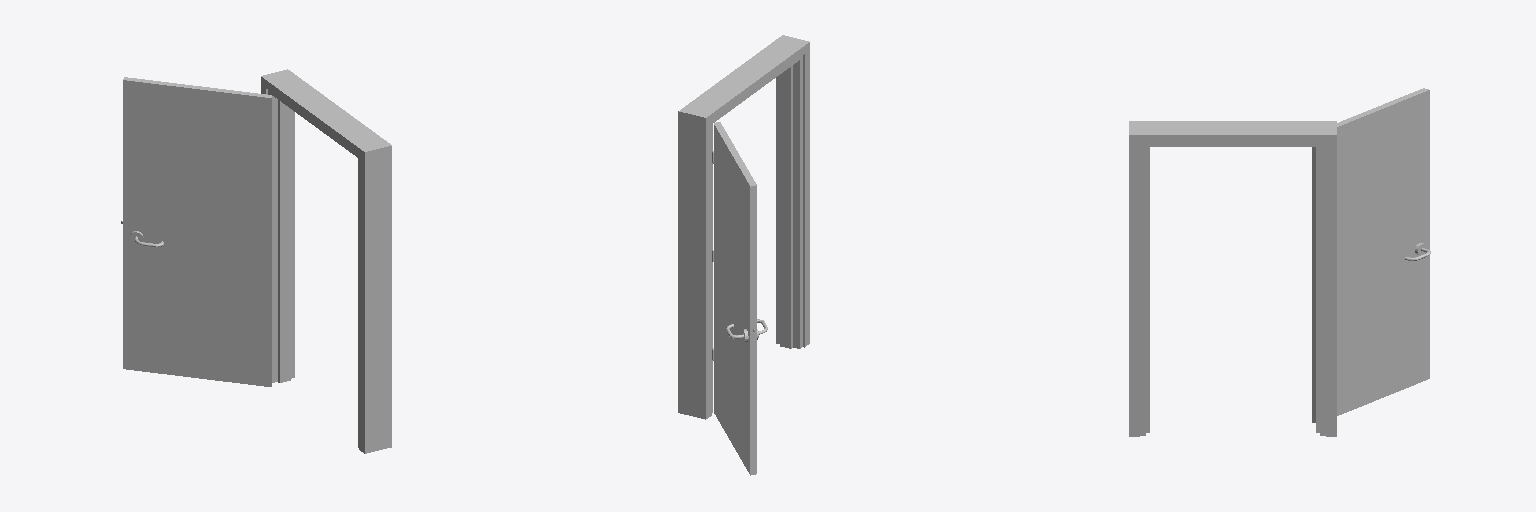
Rendered from doorRight.obj.
The picture shows the model from 3 angles: view 1: azimuth 30°, elevation 25°; view 2: azimuth 150°, elevation 25°; view 3: azimuth 270°, elevation 25°; orthographic projection.
Visible parts, largest first — view 1: door_Hinge_low_Cylinder.002; view 2: door_Hinge_low_Cylinder.002; view 3: door_Hinge_low_Cylinder.002.
Part boxes in pixels (x1,y1,x2,y2): door_Hinge_low_Cylinder.002: (121,69,391,453); door_Hinge_low_Cylinder.002: (678,35,809,475); door_Hinge_low_Cylinder.002: (1129,88,1430,436).
Size of the model in its own units: 0.8446 by 2 by 1.81.